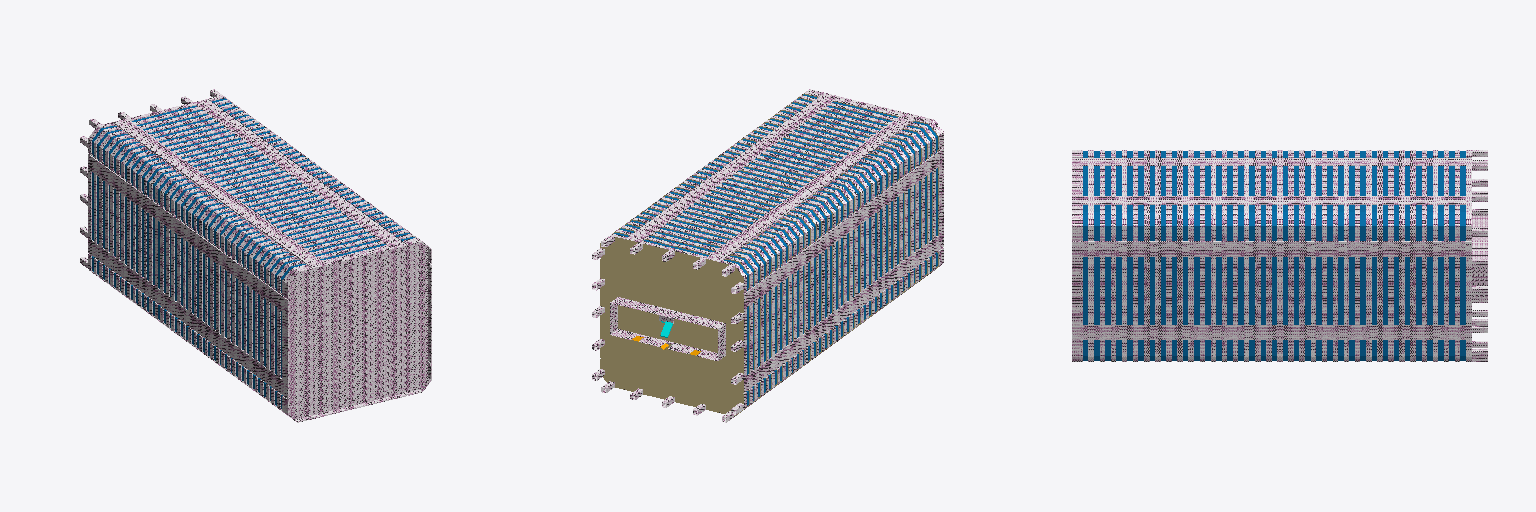
3 renders of one model, left to right at view 1: azimuth 30°, elevation 25°; view 2: azimuth 150°, elevation 25°; view 3: azimuth 270°, elevation 25°, orthographic.
Parts seen in each view (by area): view 1: Wall_04, Wall_01, Glass_01, Wall_02, Wall_03; view 2: Wall_01, Slab_01, Glass_01, Wall_02, Wall_04, wall_2_01, Wall_03; view 3: Wall_01, Glass_01, Wall_02, Wall_03, wall_2_01.
Part boxes in pixels (bbox=[...]): Wall_04: bbox=[91, 97, 431, 422]; Wall_01: bbox=[88, 95, 431, 421]; Glass_01: bbox=[92, 98, 414, 408]; Wall_02: bbox=[88, 99, 401, 393]; Wall_03: bbox=[80, 89, 221, 273]; Wall_01: bbox=[610, 89, 943, 415]; Slab_01: bbox=[600, 93, 938, 415]; Glass_01: bbox=[614, 94, 937, 405]; Wall_02: bbox=[627, 95, 940, 390]; Wall_04: bbox=[623, 94, 938, 406]; wall_2_01: bbox=[610, 297, 725, 360]; Wall_03: bbox=[592, 236, 743, 422]; Wall_01: bbox=[1072, 150, 1471, 361]; Glass_01: bbox=[1083, 151, 1465, 360]; Wall_02: bbox=[1077, 158, 1471, 339]; Wall_03: bbox=[1472, 150, 1487, 361]; wall_2_01: bbox=[1472, 216, 1487, 297].
Bounding box in the file's own units: 1800 × 1800 × 4500.
Materials: 5 (1 with a texture image).